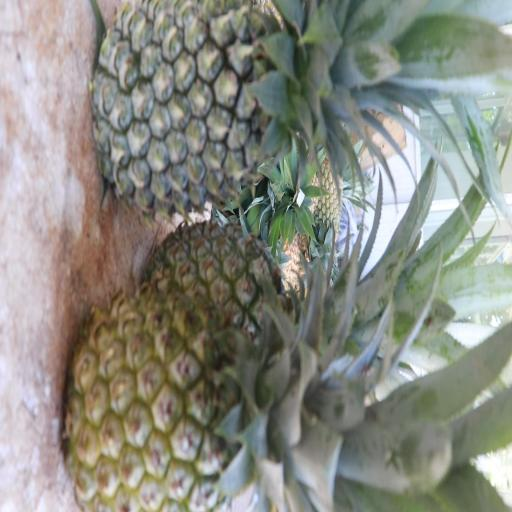------------------------------: (60, 279, 392, 512), (140, 218, 365, 379)
